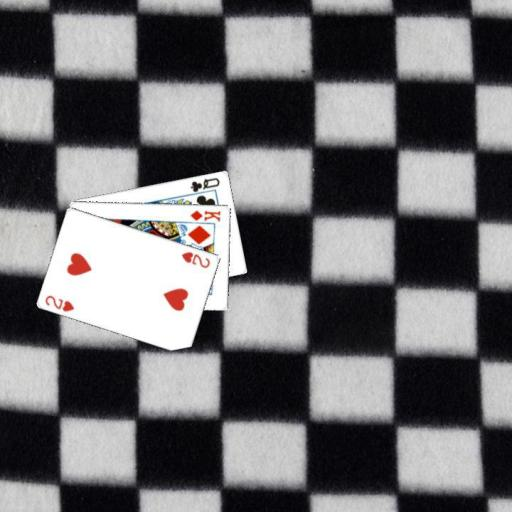2H: (178, 248, 212, 270), (42, 292, 76, 313)
KD: (187, 207, 222, 223)
QC: (188, 175, 221, 194)
